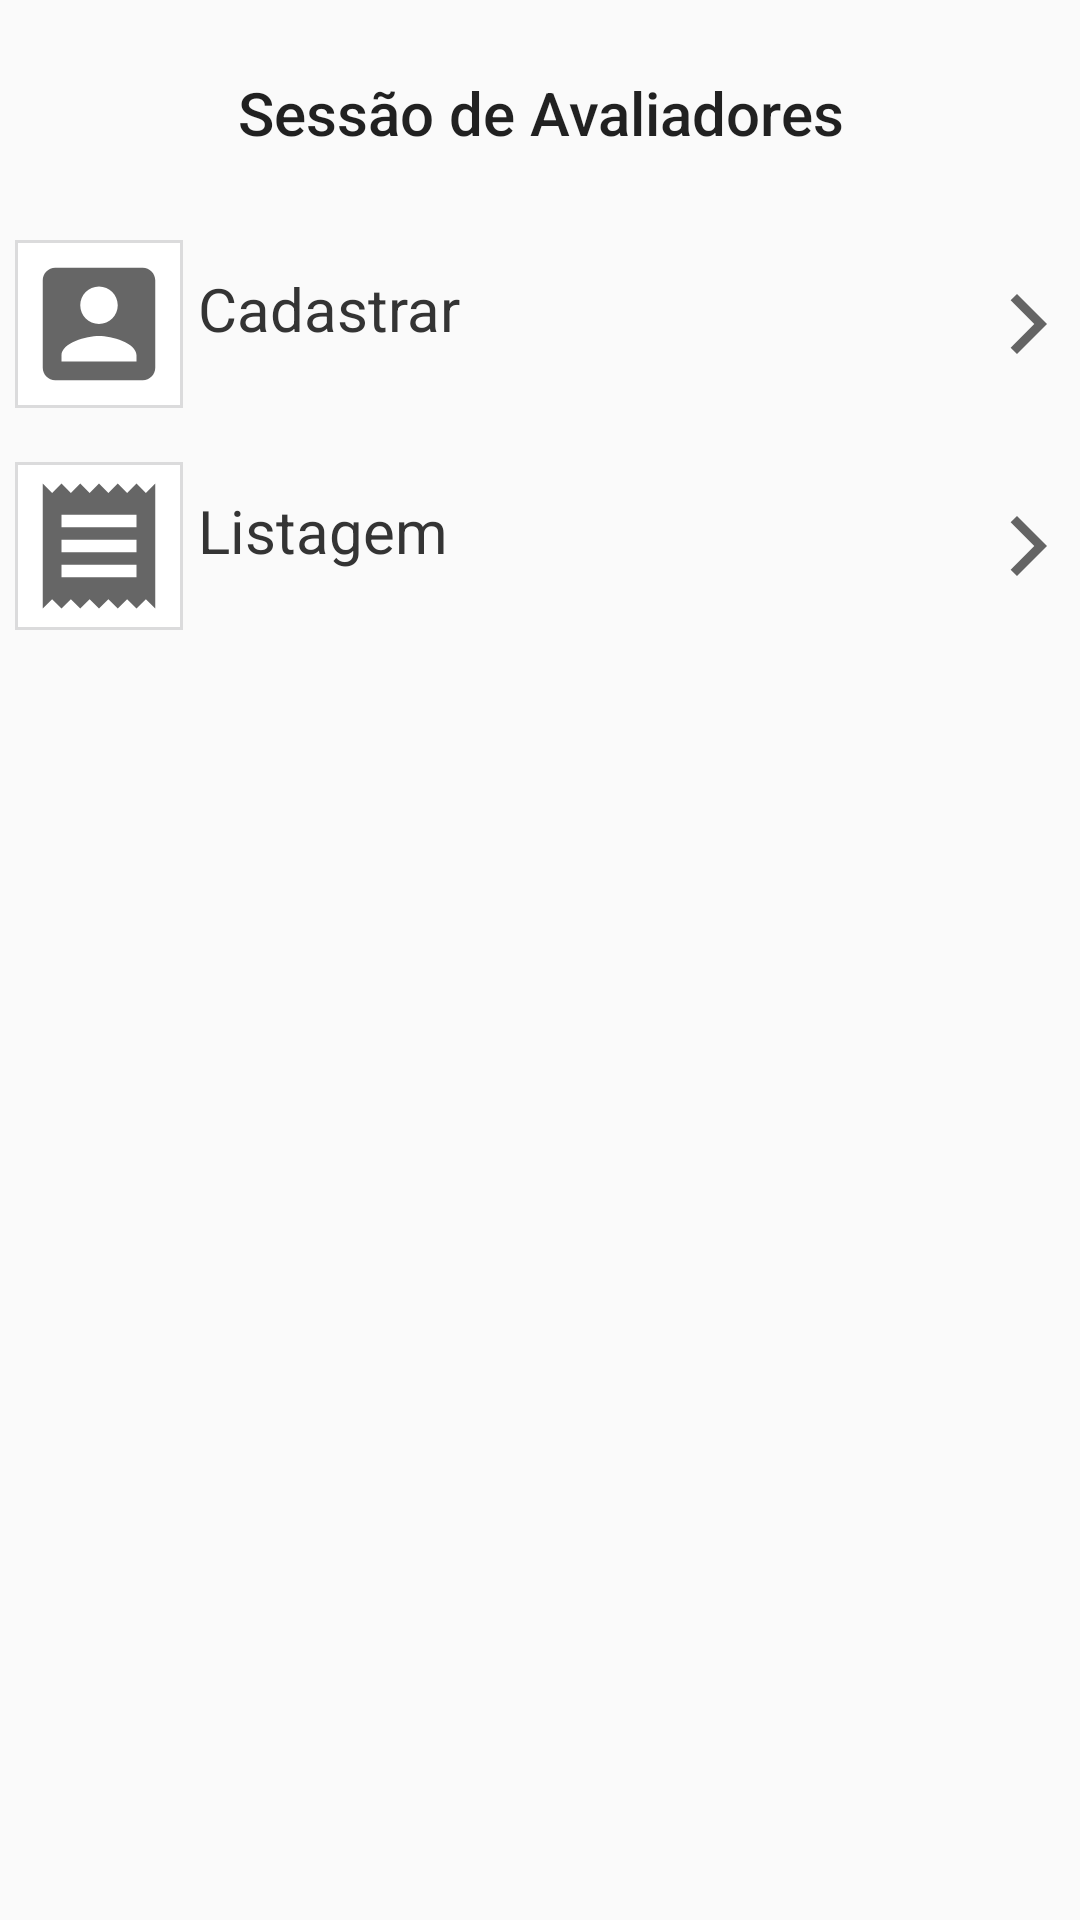

Icons on this 1080px x 1920px Android screen, each with its box as (x1, y1, x2, y2):
account box: (42, 267, 156, 381)
arrow forward: (1011, 294, 1047, 354), (1011, 516, 1047, 576)
receipt: (42, 483, 156, 609)
